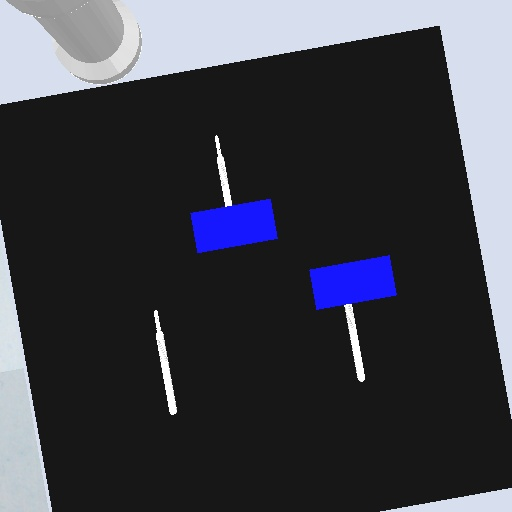bisturi: (151, 307, 181, 417), (342, 302, 368, 384), (210, 131, 236, 209)
